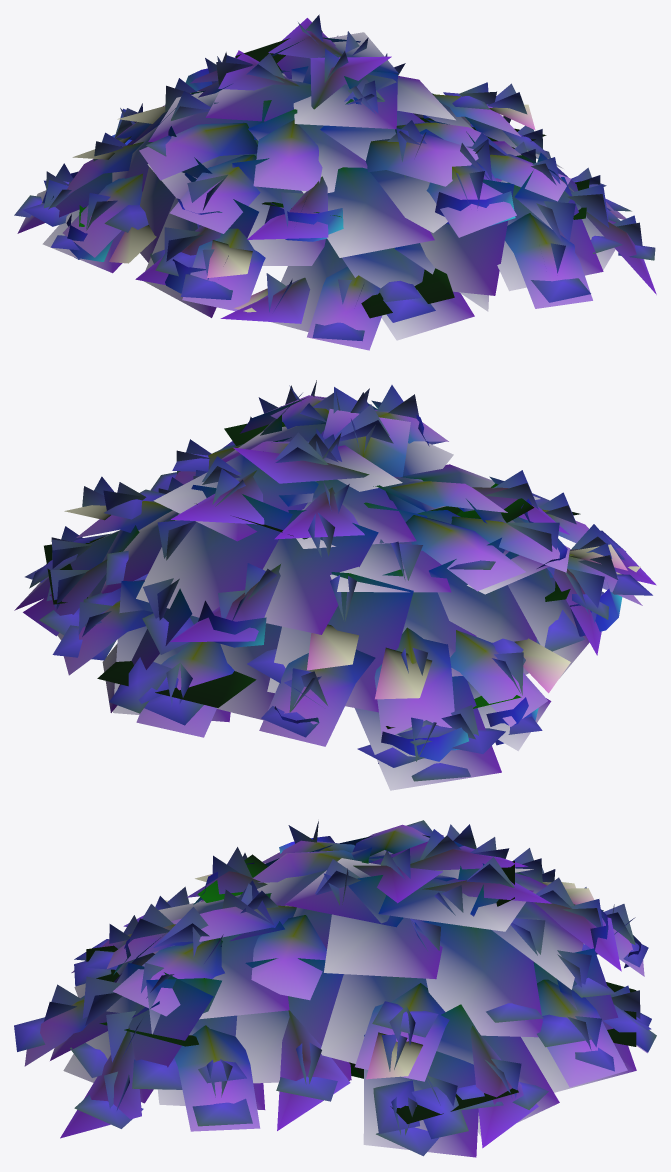
The model's file is tro_tree_1_bush_large.dae.
3 renders of one model, top to bottom at view 1: azimuth 30°, elevation 25°; view 2: azimuth 150°, elevation 25°; view 3: azimuth 270°, elevation 25°, orthographic. The views are drawn at different scales.
Visible parts, largest first — view 1: Plane_565, Plane_564, Plane_566, Plane_563, tro_tree_1_bush_large_001; view 2: Plane_565, Plane_564, Plane_566, Plane_563, tro_tree_1_bush_large_001; view 3: Plane_565, Plane_564, Plane_566, Plane_563, tro_tree_1_bush_large_001.
Part boxes in pixels (<box>): Plane_565: <box>17,32,615,340</box>; Plane_564: <box>62,18,656,350</box>; Plane_566: <box>14,68,655,341</box>; Plane_563: <box>44,14,642,312</box>; tro_tree_1_bush_large_001: <box>79,30,589,318</box>; Plane_565: <box>14,393,589,790</box>; Plane_564: <box>23,395,656,746</box>; Plane_566: <box>25,400,652,781</box>; Plane_563: <box>50,380,625,761</box>; tro_tree_1_bush_large_001: <box>44,422,580,728</box>; Plane_565: <box>50,835,636,1157</box>; Plane_564: <box>24,824,647,1148</box>; Plane_566: <box>14,820,656,1156</box>; Plane_563: <box>44,821,640,1135</box>; tro_tree_1_bush_large_001: <box>86,854,636,1123</box>.
Size of the model in its own units: 5.9 by 6.22 by 2.63.
